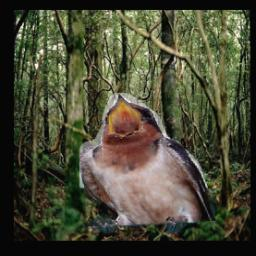Swallow: (79, 93, 214, 233)
